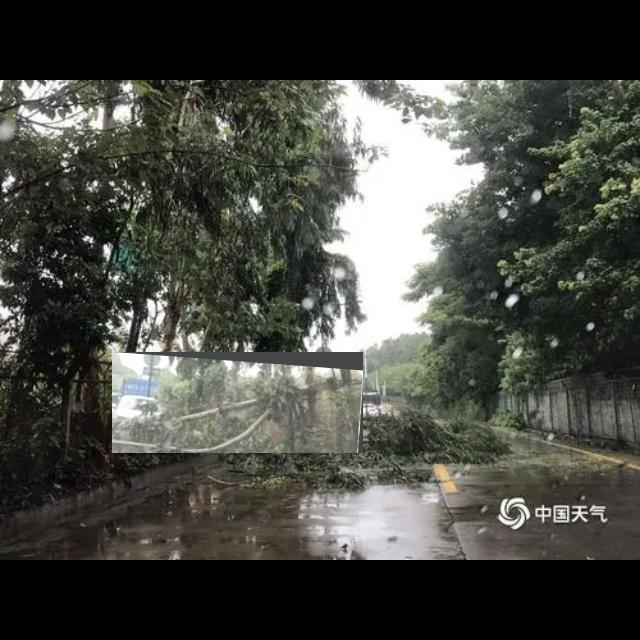fallen_tree: (112, 352, 364, 454)
